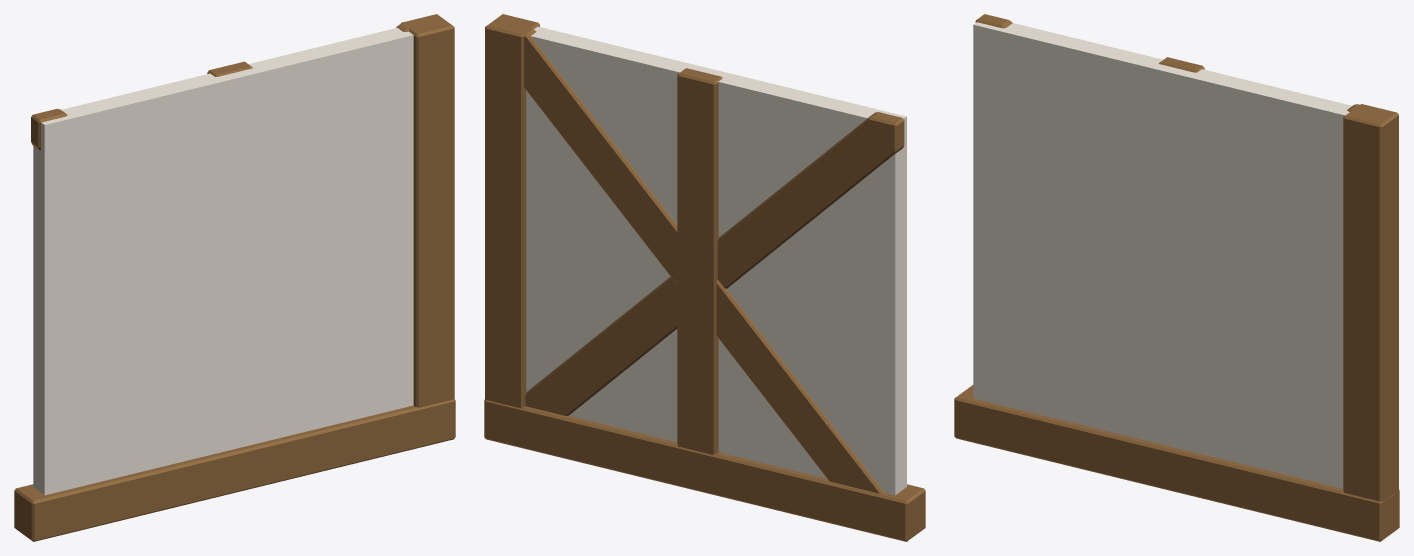
File: WallCrossXV.fbx
3 views of the same model, side by side, from view 1: azimuth 30°, elevation 25°; view 2: azimuth 150°, elevation 25°; view 3: azimuth 330°, elevation 25° (orthographic).
Parts seen in each view (by area): view 1: Cube.052, Cube.061, Cube.057, Cube.060; view 2: Cube.052, Cube.061, Cube.060, Cube.056, Cube.057, Cube.055; view 3: Cube.052, Cube.057, Cube.061.
Boxes of the visible parts, box(x1,y1,x2,y2) form: Cube.052: box(33, 27, 413, 495); Cube.061: box(14, 399, 455, 541); Cube.057: box(401, 14, 454, 407); Cube.060: box(31, 109, 67, 150); Cube.052: box(526, 26, 906, 495); Cube.061: box(484, 399, 925, 541); Cube.060: box(525, 112, 904, 415); Cube.056: box(523, 28, 884, 493); Cube.057: box(485, 14, 539, 408); Cube.055: box(677, 68, 722, 454); Cube.052: box(973, 22, 1352, 488); Cube.057: box(1343, 104, 1398, 501); Cube.061: box(954, 385, 1399, 541).
Bounding box in the file's own units: 216 × 202 × 17.27.
